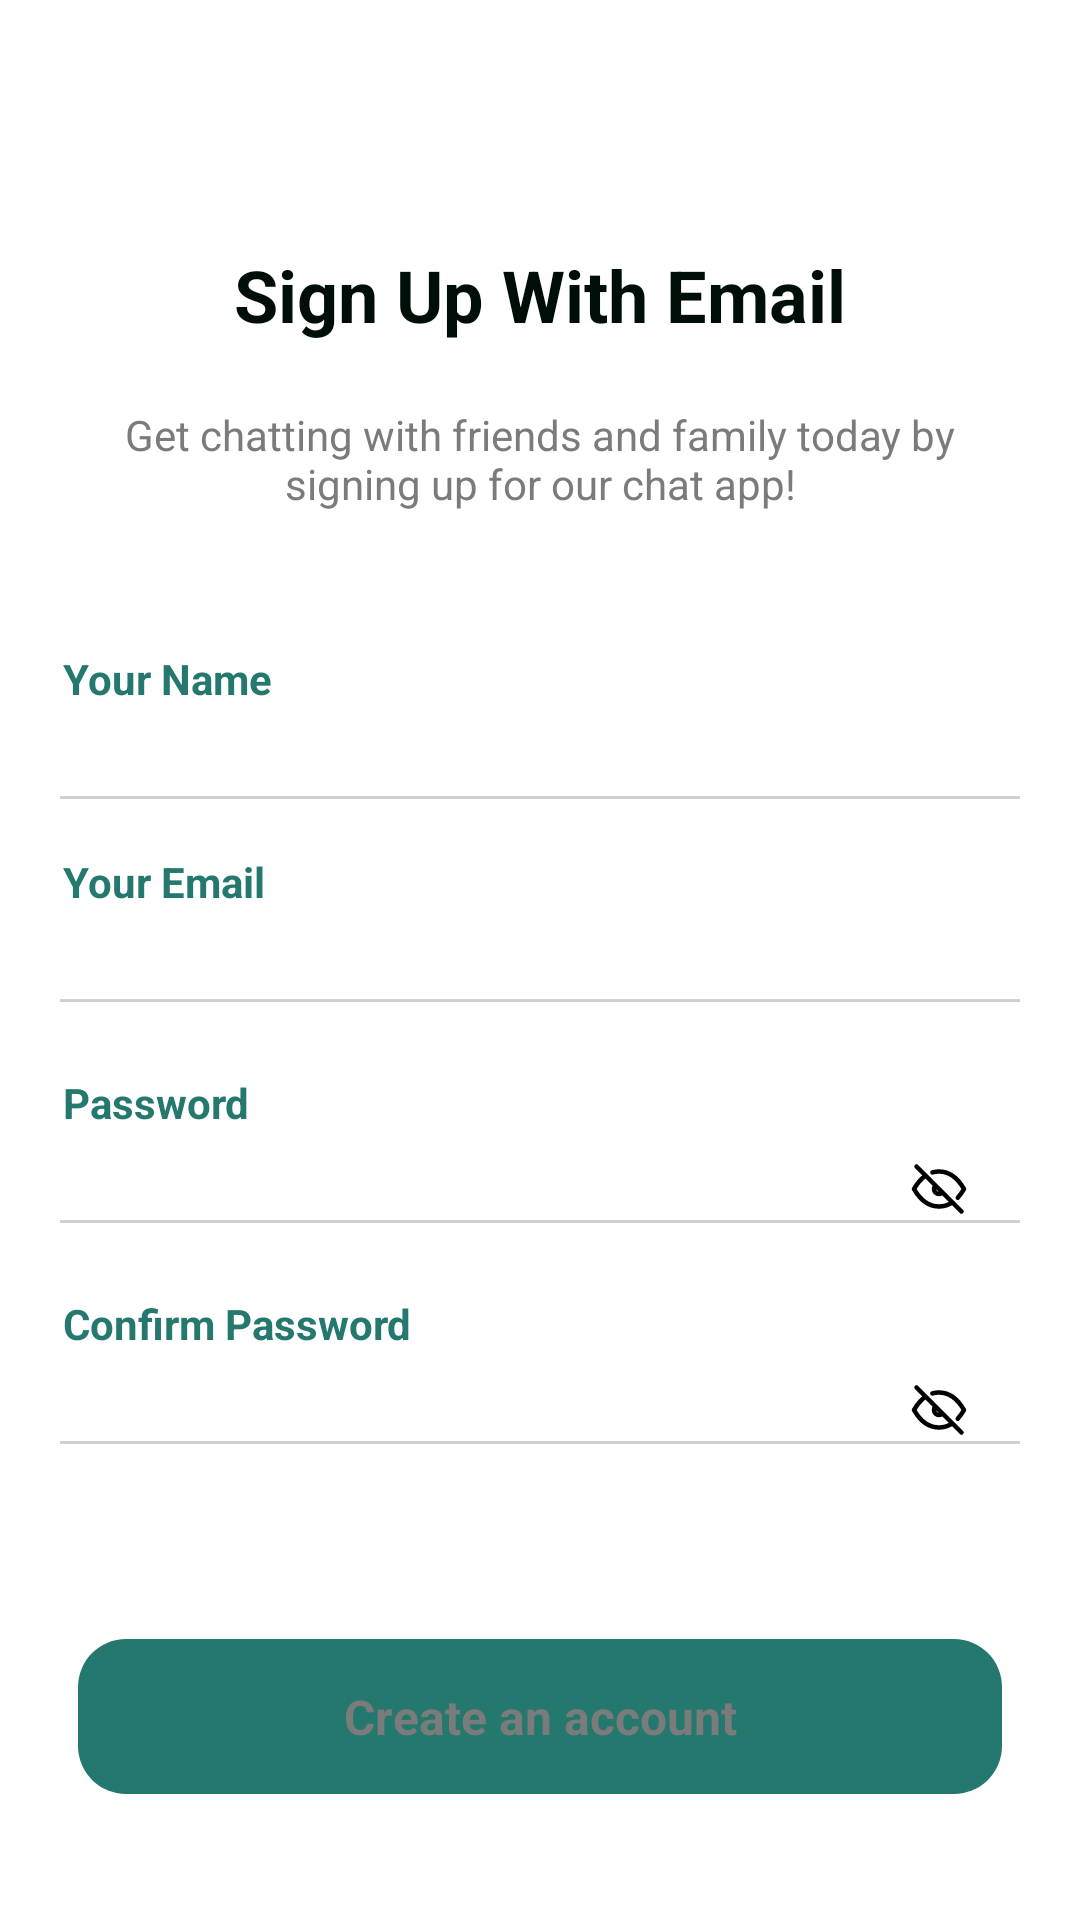

Icon bounding boxes for this 1080w x 1920h phone screenshot, format BBox(x1, y1, x2, y2):
eye off: BBox(911, 1164, 967, 1214), BBox(911, 1385, 967, 1435)
